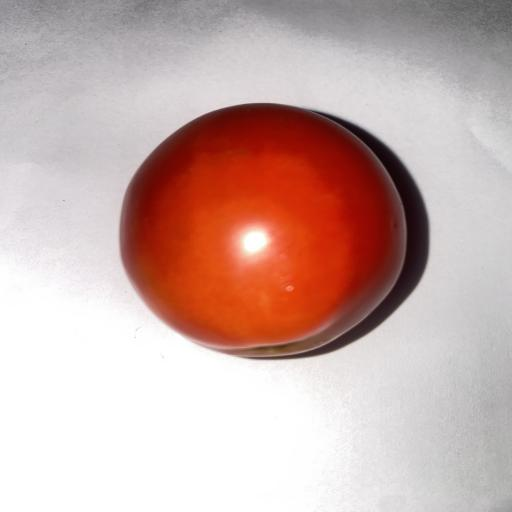ripe: (120, 103, 407, 356)
